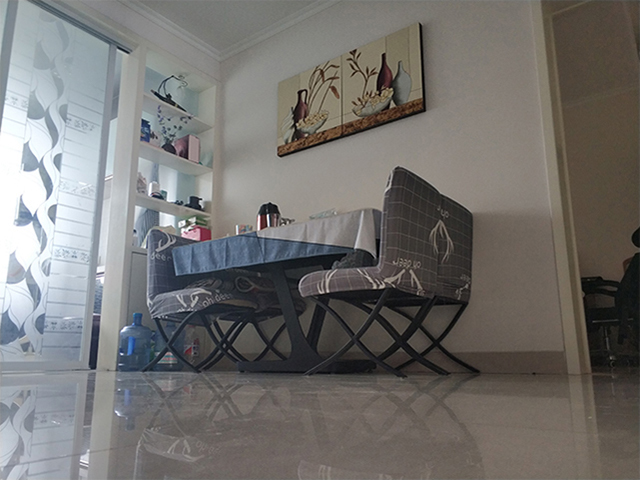stool: (296, 164, 482, 379), (141, 226, 308, 373), (577, 227, 640, 369)
table: (169, 207, 382, 375)
